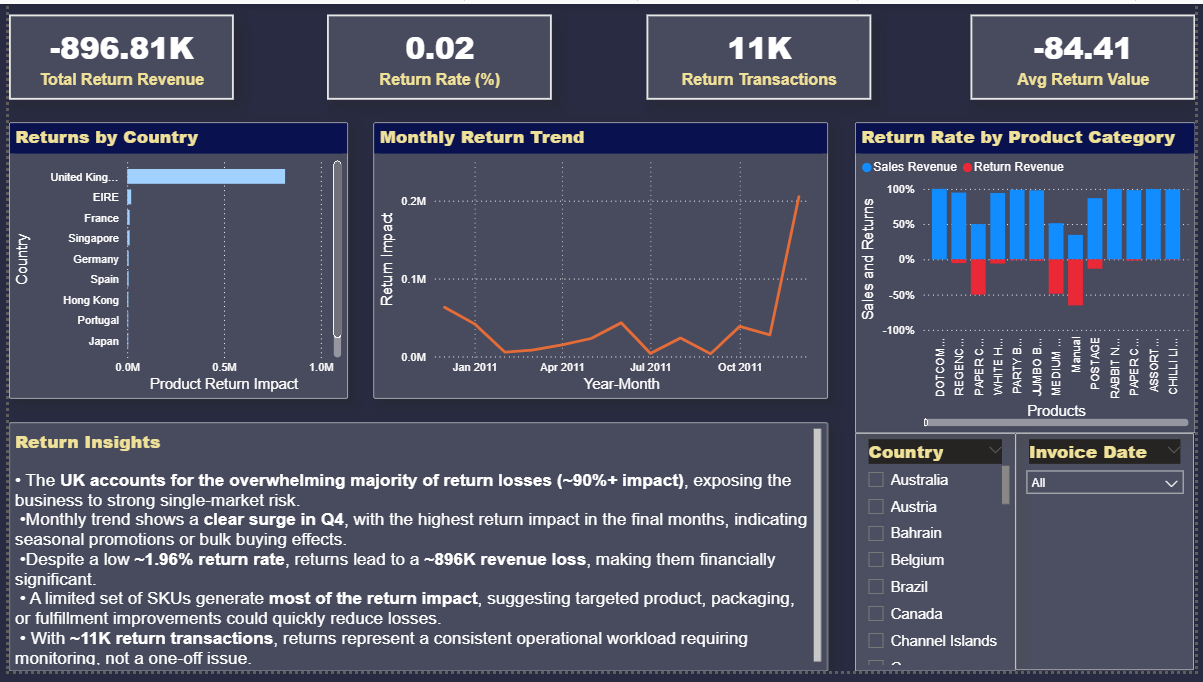

Layout of this report page (visuals, bound fields, positions):
{"tool":"powerbi","page":{"name":"Return & Risk Analysis","canvas":[1280,720],"ordinal":3},"visuals":[{"type":"card","fields":{"Values":["uk_ecommerce_bi_ready.Return Revenue"]},"box":[0,11.3,242.9,92.3],"z":0},{"type":"card","fields":{"Values":["uk_ecommerce_bi_ready.Return Rate (%)"]},"box":[343.3,11.3,242.9,92.3],"z":1000},{"type":"card","fields":{"Values":["uk_ecommerce_bi_ready.Return Transactions"]},"box":[688.2,11.3,242.9,92.3],"z":2000},{"type":"card","fields":{"Values":["uk_ecommerce_bi_ready.Avg Return Value"]},"box":[1037.9,11.3,242.9,92.3],"z":3000},{"type":"clusteredBarChart","title":"Returns by Country","fields":{"Category":["uk_ecommerce_bi_ready.Country"],"Y":["uk_ecommerce_bi_ready.Product Return Impact"]},"box":[0,127.9,365.9,297.9],"z":4000},{"type":"lineChart","title":"Monthly Return Trend","fields":{"Y":["uk_ecommerce_bi_ready.Product Return Impact"],"Category":["uk_ecommerce_bi_ready.InvoiceDate.Variation.Date Hierarchy.Year","uk_ecommerce_bi_ready.InvoiceDate.Variation.Date Hierarchy.Month"]},"box":[393.5,127.9,490.6,297.9],"z":5000},{"type":"hundredPercentStackedColumnChart","title":"Return Rate by Product Category","fields":{"Category":["uk_ecommerce_bi_ready.Description"],"Y":["uk_ecommerce_bi_ready.Sales Revenue","uk_ecommerce_bi_ready.Return Revenue"]},"box":[913.2,127.9,367.6,335.2],"z":6000},{"type":"textbox","box":[0,451.8,884.1,268.8],"z":7000},{"type":"slicer","fields":{"Values":["uk_ecommerce_bi_ready.Country"]},"box":[913.2,463.1,173.3,257.5],"z":8000},{"type":"slicer","fields":{"Values":["uk_ecommerce_bi_ready.InvoiceDate"]},"box":[1086.5,463.1,192.7,255.8],"z":9000}]}

Visuals, with their boxes in screenshot pixels (x1, y1, x2, y2), scaled from the page's 1280x720 canvas onto the 1203x682 screenshot:
card - uk_ecommerce_bi_ready.Return Revenue: (0, 11, 228, 98)
card - uk_ecommerce_bi_ready.Return Rate (%): (323, 11, 551, 98)
card - uk_ecommerce_bi_ready.Return Transactions: (647, 11, 875, 98)
card - uk_ecommerce_bi_ready.Avg Return Value: (975, 11, 1202, 98)
"Returns by Country" clusteredBarChart: (0, 121, 344, 403)
"Monthly Return Trend" lineChart: (370, 121, 831, 403)
"Return Rate by Product Category" hundredPercentStackedColumnChart: (858, 121, 1202, 439)
textbox: (0, 428, 831, 681)
slicer - uk_ecommerce_bi_ready.Country: (858, 439, 1021, 681)
slicer - uk_ecommerce_bi_ready.InvoiceDate: (1021, 439, 1202, 681)
